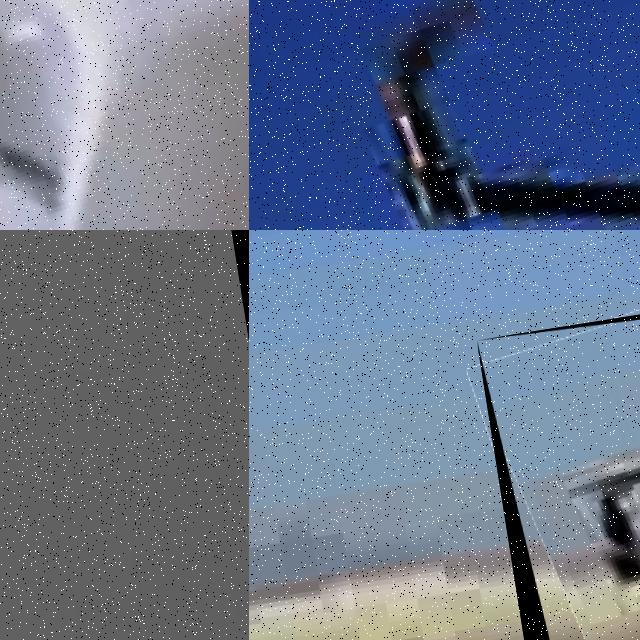drone: (249, 0, 640, 230), (0, 0, 249, 230), (477, 307, 640, 640)
